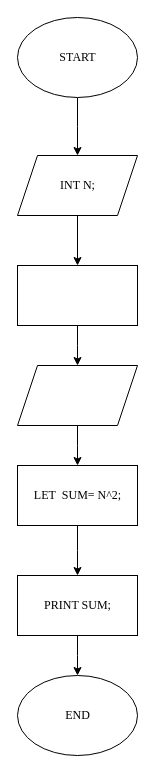
Some shapes in this 155 by 773 pixel diagram are drawn without their labels. Each missing label, with the centre of its shape:
"INT SUM;" belongs at (x=77, y=395).
"LET N=3;" belongs at (x=77, y=295).
